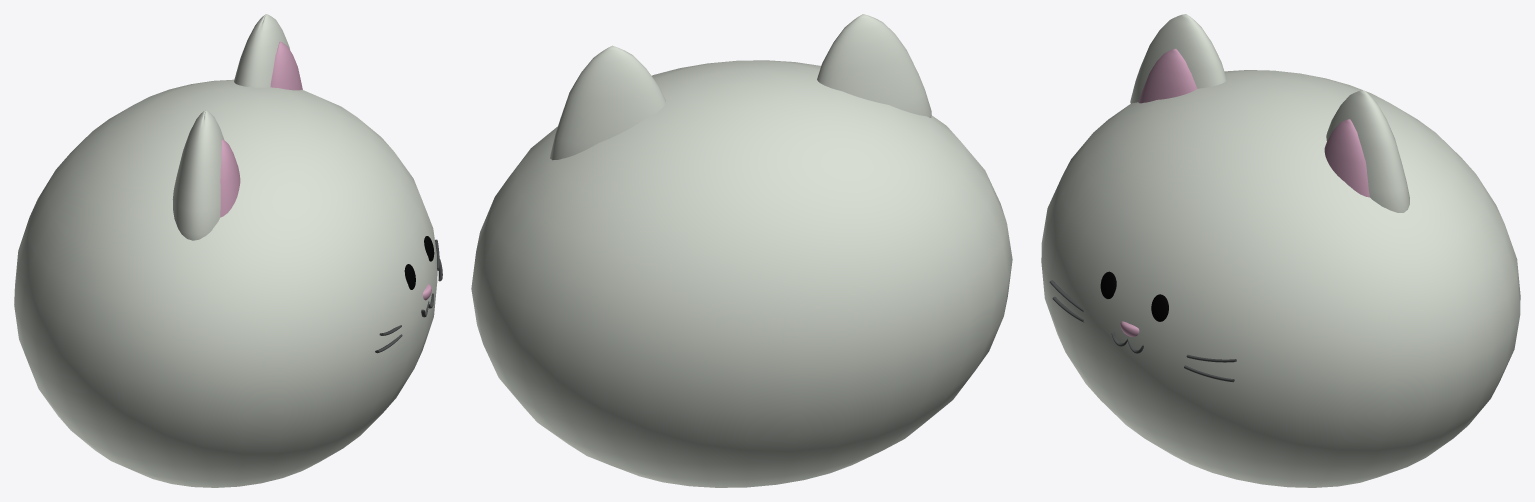
Rendered from haru_finish.gltf.
3 views of the same model, side by side, from view 1: azimuth 30°, elevation 25°; view 2: azimuth 150°, elevation 25°; view 3: azimuth 270°, elevation 25° (orthographic). The views are drawn at different scales.
Visible parts, largest first — view 1: Sphere.007, Sphere.014, Sphere.020, Sphere.022, Sphere.023; view 2: Sphere.007, Sphere.020, Sphere.014; view 3: Sphere.007, Sphere.020, Sphere.014, Sphere.023, Sphere.022.
Part boxes in pixels (x1,y1,x2,y2): Sphere.007: (14,79,437,487); Sphere.014: (172,110,224,240); Sphere.020: (234,14,289,87); Sphere.022: (220,139,240,217); Sphere.023: (270,41,302,90); Sphere.007: (471,60,1012,487); Sphere.020: (550,45,665,160); Sphere.014: (817,14,931,117); Sphere.007: (1041,70,1520,487); Sphere.020: (1326,90,1409,212); Sphere.014: (1130,14,1226,103); Sphere.023: (1324,119,1369,197); Sphere.022: (1138,48,1197,103).
Bounding box in the file's own units: 2.1 × 2.01 × 2.1.
